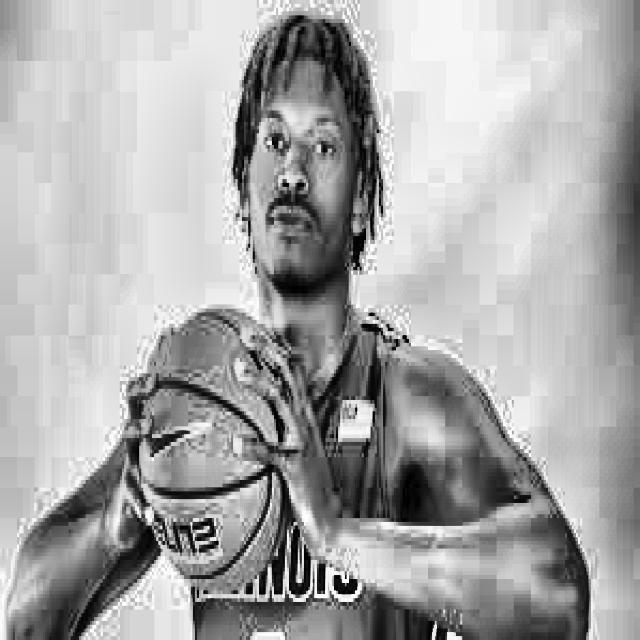Basketball: (139, 309, 287, 592)
